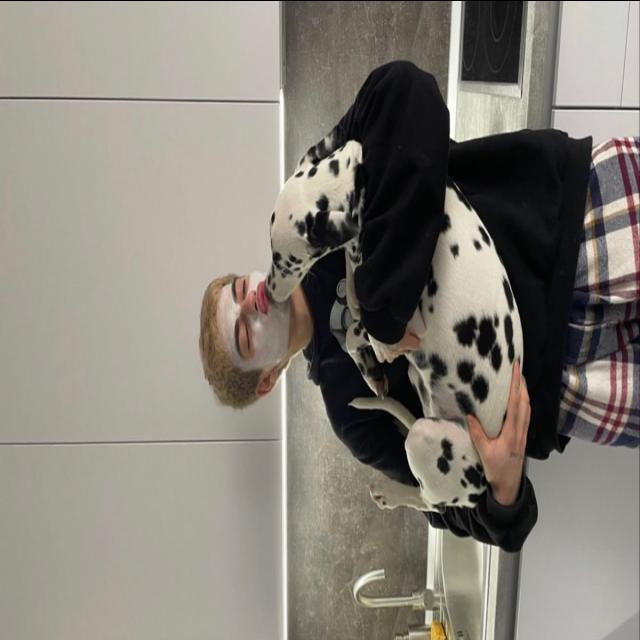Dogs: (262, 139, 528, 525)
